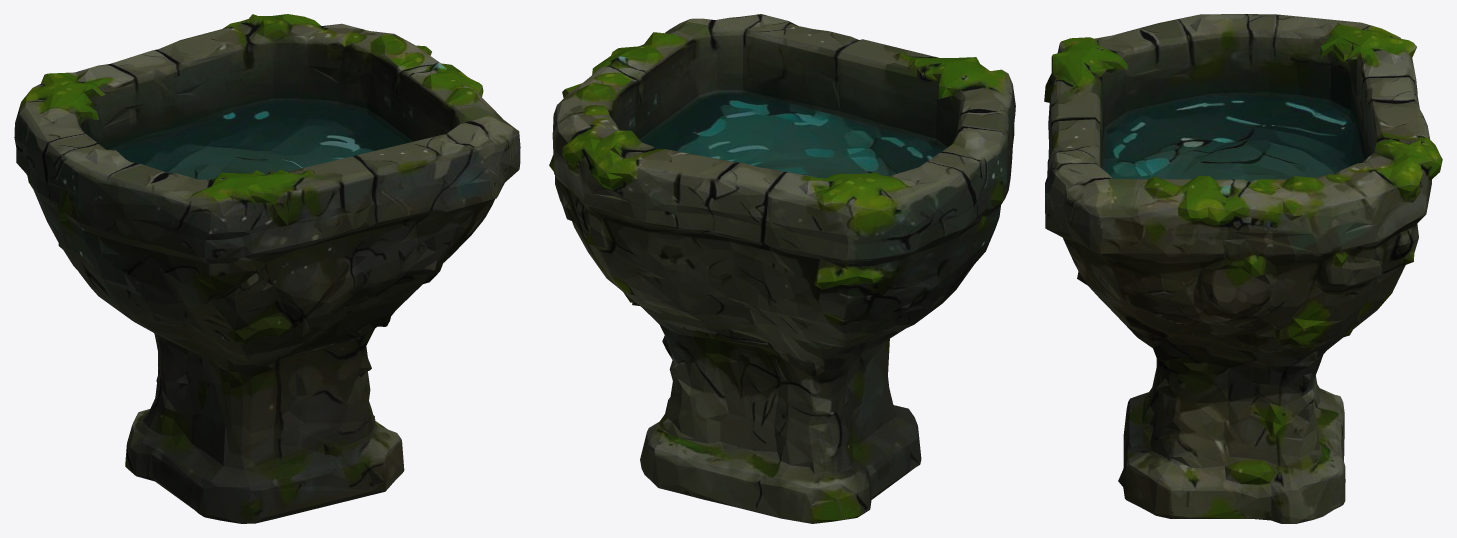
Rendered from toppled_font.glb.
The picture shows the model from 3 angles, left to right: view 1: azimuth 30°, elevation 25°; view 2: azimuth 150°, elevation 25°; view 3: azimuth 270°, elevation 25°; orthographic projection.
Parts seen in each view (by area): view 1: tripo_node_58ee0c47-b4a4-4236-ad3e-6840da037324.001; view 2: tripo_node_58ee0c47-b4a4-4236-ad3e-6840da037324.001; view 3: tripo_node_58ee0c47-b4a4-4236-ad3e-6840da037324.001.
Part boxes in pixels (x1,y1,x2,y2): tripo_node_58ee0c47-b4a4-4236-ad3e-6840da037324.001: (14, 14, 520, 523); tripo_node_58ee0c47-b4a4-4236-ad3e-6840da037324.001: (549, 14, 1015, 523); tripo_node_58ee0c47-b4a4-4236-ad3e-6840da037324.001: (1044, 14, 1442, 523).
Size of the model in its own units: 1 by 0.8691 by 0.8508.
1 material, 1 textured.
